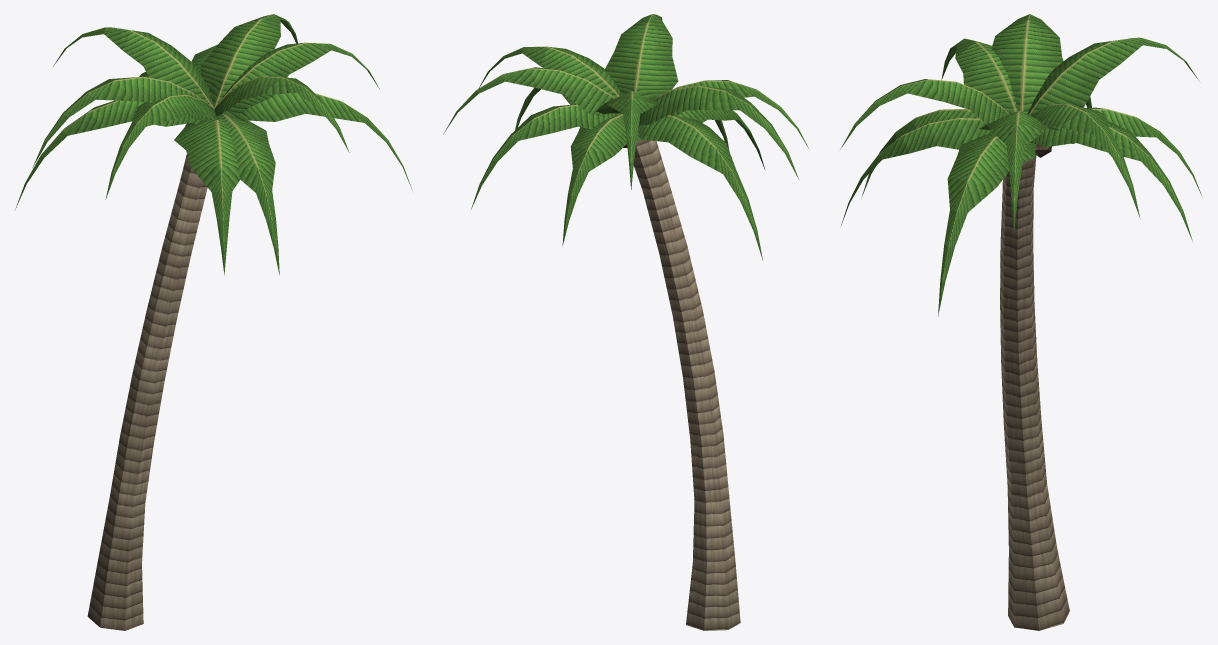
The model's file is palm.glb.
The picture shows the model from 3 angles, left to right: view 1: azimuth 30°, elevation 25°; view 2: azimuth 150°, elevation 25°; view 3: azimuth 270°, elevation 25°; orthographic projection. The views are drawn at different scales.
Visible parts, largest first — view 1: Palm; view 2: Palm; view 3: Palm.
Boxes of the visible parts, bbox=[...] form: Palm: bbox=[15, 14, 412, 630]; Palm: bbox=[443, 14, 809, 630]; Palm: bbox=[840, 14, 1202, 630].
Size of the model in its own units: 4.86 by 7.54 by 4.12.
2 materials, 2 textured.
